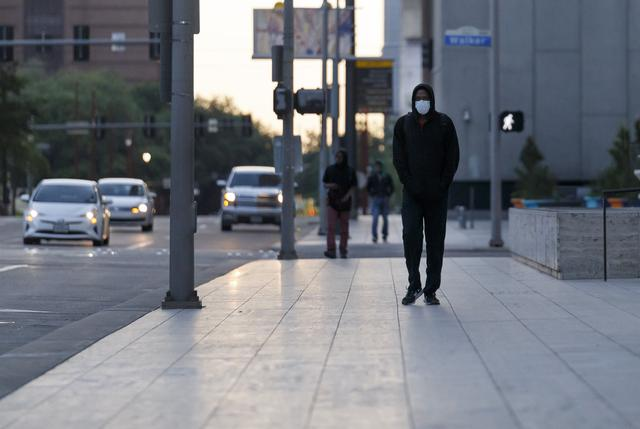Person: (391, 80, 462, 295)
